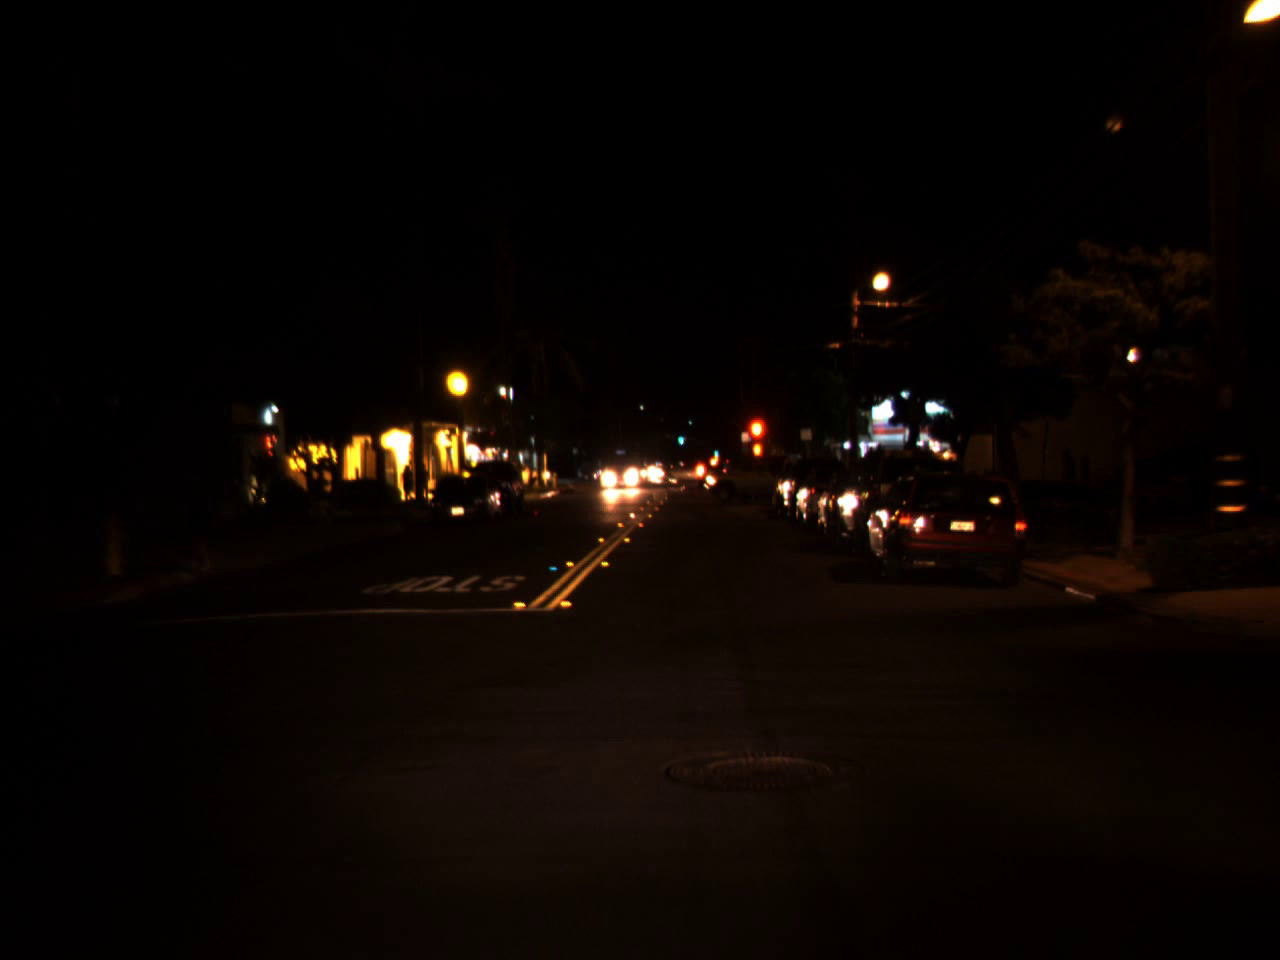go: (676, 428, 685, 446), (710, 441, 719, 456)
stop: (745, 415, 769, 469)
